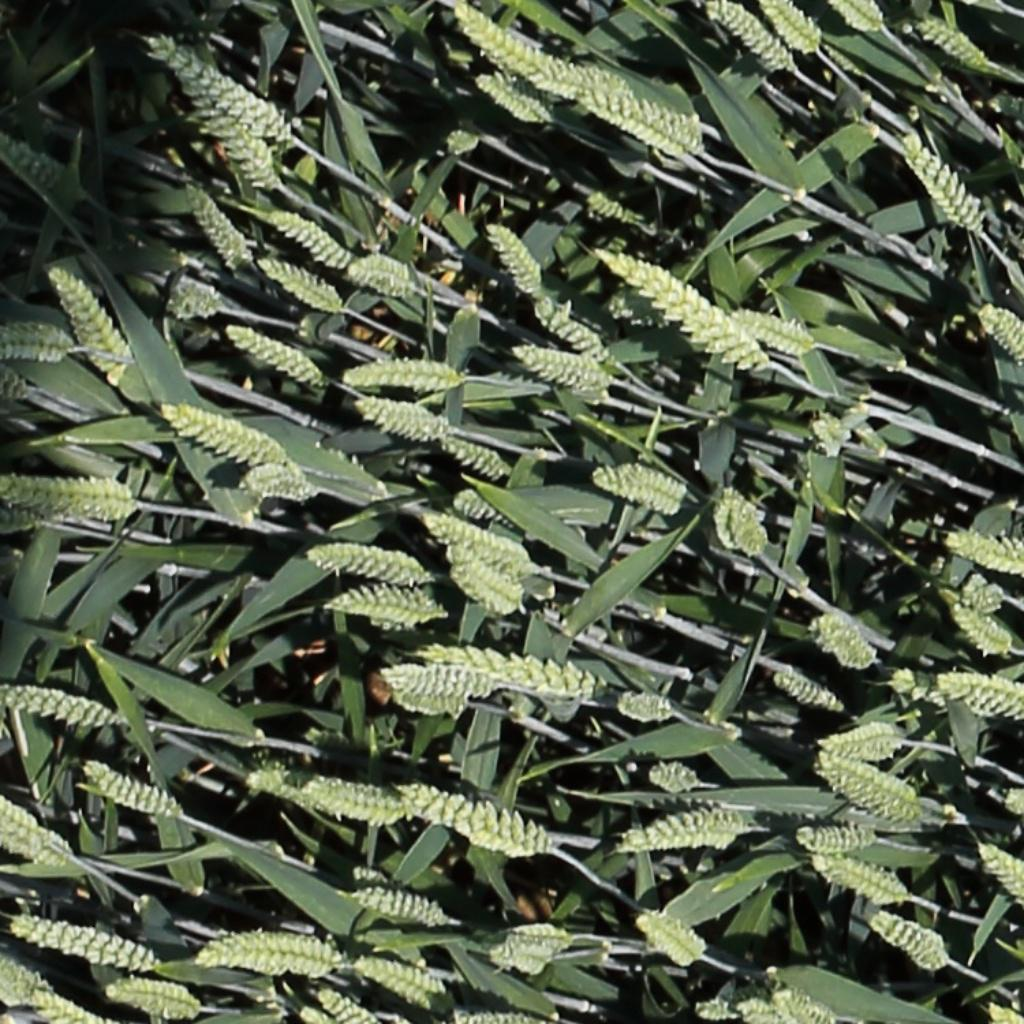0-0: (595, 245, 764, 371), (451, 5, 625, 102), (144, 35, 285, 143), (400, 781, 547, 857), (419, 643, 600, 701), (897, 126, 985, 233), (43, 259, 131, 364), (577, 91, 702, 158), (159, 404, 289, 467), (10, 916, 154, 970), (195, 94, 275, 189), (191, 930, 345, 978), (177, 174, 247, 273), (0, 963, 108, 1024), (277, 774, 406, 825), (0, 479, 138, 526), (704, 1, 791, 73), (223, 322, 322, 385), (311, 536, 431, 586), (528, 294, 613, 363), (420, 513, 527, 566), (77, 763, 176, 819), (479, 215, 544, 300), (621, 807, 749, 850), (0, 682, 116, 728), (264, 206, 350, 267), (341, 354, 459, 396), (814, 853, 909, 905), (352, 958, 444, 1011), (256, 255, 341, 311), (634, 912, 713, 970), (820, 756, 914, 804), (323, 587, 441, 625), (346, 888, 447, 932), (886, 667, 988, 710), (868, 913, 946, 969), (828, 778, 918, 823), (513, 346, 607, 389), (947, 599, 1013, 659), (105, 977, 199, 1019), (356, 397, 440, 444), (916, 15, 989, 69), (729, 308, 814, 354), (472, 69, 547, 121), (449, 551, 518, 607), (939, 678, 1024, 723), (976, 842, 1024, 921), (715, 484, 763, 562), (1, 131, 65, 189), (809, 614, 875, 670), (384, 664, 501, 695), (591, 469, 681, 509), (1, 322, 78, 368), (946, 533, 1024, 576), (771, 671, 845, 715), (242, 462, 314, 507), (815, 721, 899, 758), (346, 254, 414, 298), (435, 434, 505, 476), (761, 1, 819, 51), (449, 490, 512, 529), (7, 827, 70, 866), (988, 305, 1024, 371), (394, 691, 471, 721), (687, 989, 757, 1021), (0, 793, 41, 847), (244, 763, 313, 795), (774, 990, 838, 1024), (795, 826, 869, 855), (314, 987, 371, 1024), (505, 923, 569, 955), (805, 410, 847, 457), (487, 945, 554, 974), (614, 689, 672, 722), (830, 0, 883, 35), (584, 188, 637, 222), (645, 761, 700, 793), (730, 997, 782, 1024), (1003, 789, 1024, 811)
